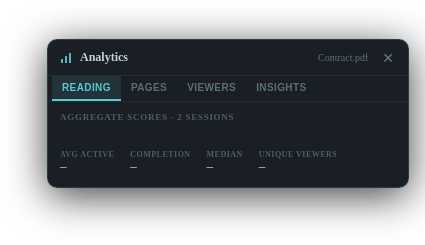
Test case: InsightsModal — Insights tab › renders multiple insights from a bare array (correct contract)
Click the button "Insights" at (281, 88), box [246,76,316,101]
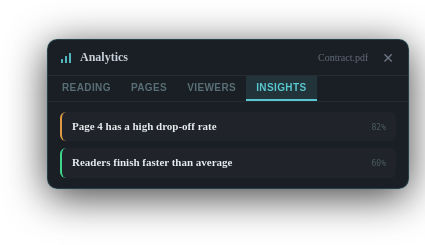
Expected: the text "Page 4 has a high drop-off rate" is shown, [72,119,217,134]
Expected: the text "Readers finish faster than average" is shown, [72,155,232,171]
